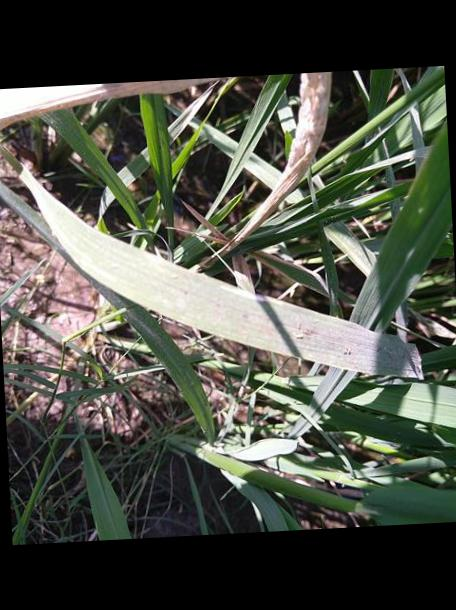Leaf Blight: (217, 71, 330, 256), (0, 76, 233, 129)
